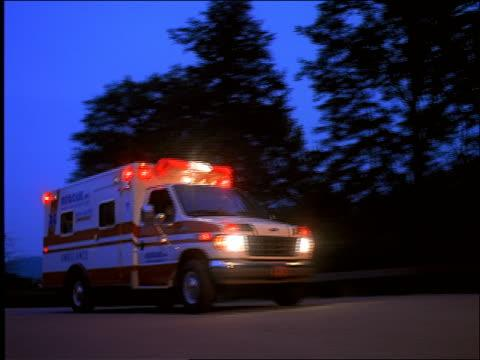ambulance_on: (41, 155, 318, 314)
